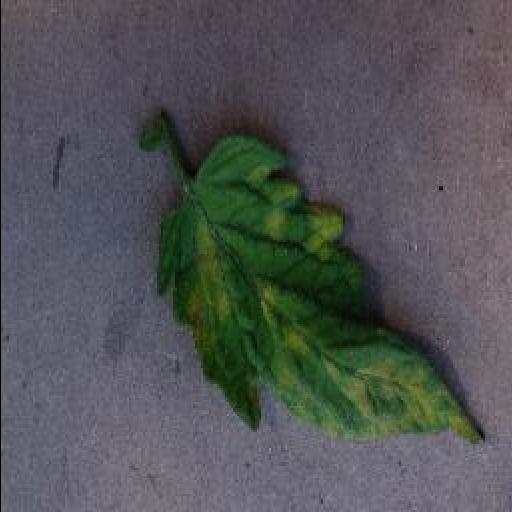disease_tomato: (153, 134, 483, 443)
